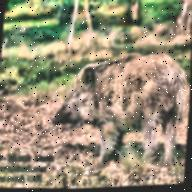boar: (32, 31, 191, 171)
